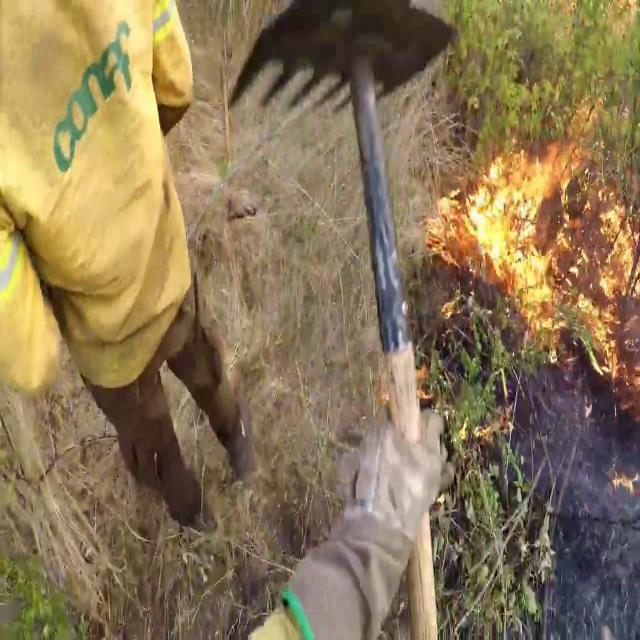Fire: (433, 141, 640, 423)
